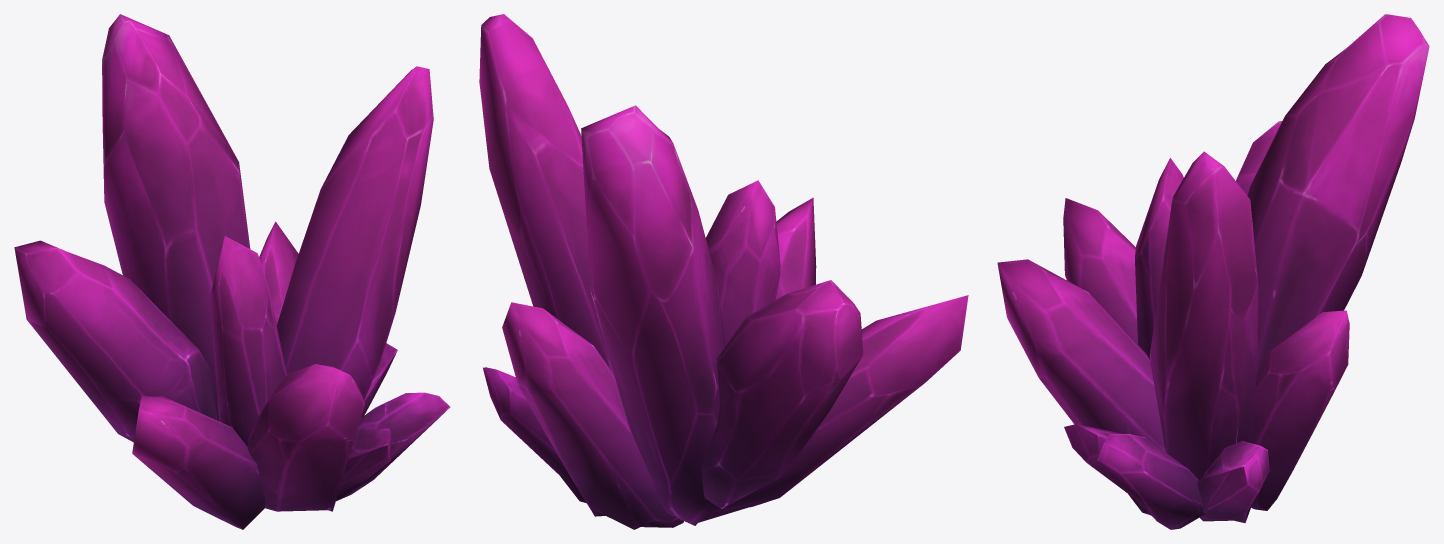
The model's file is VEG0510012.fbx.
3 renders of one model, left to right at view 1: azimuth 30°, elevation 25°; view 2: azimuth 150°, elevation 25°; view 3: azimuth 270°, elevation 25°, orthographic. The views are drawn at different scales.
Visible parts, largest first — view 1: smVEG0510012; view 2: smVEG0510012; view 3: smVEG0510012.
Boxes of the visible parts, box(x1,y1,x2,y2) form: smVEG0510012: box(14, 14, 450, 529); smVEG0510012: box(479, 14, 968, 529); smVEG0510012: box(997, 14, 1429, 529).
Size of the model in its own units: 60.61 by 69.17 by 58.95.
1 material, 1 textured.
